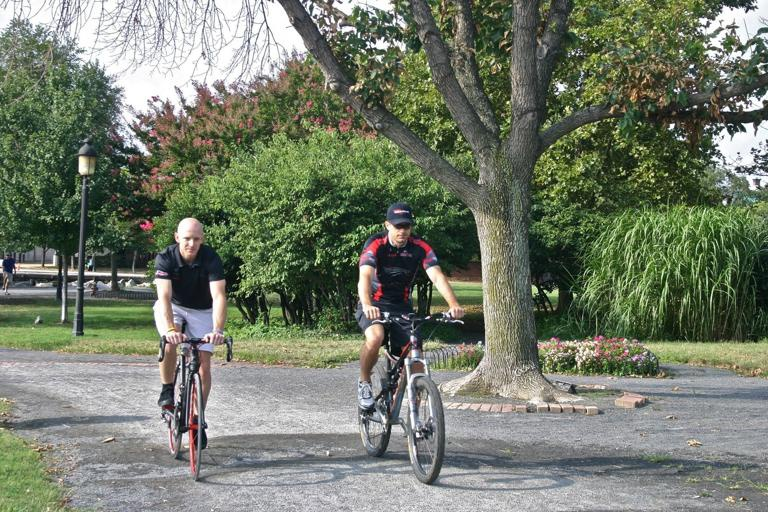non-vehicle: (357, 308, 465, 484), (155, 332, 234, 482)
